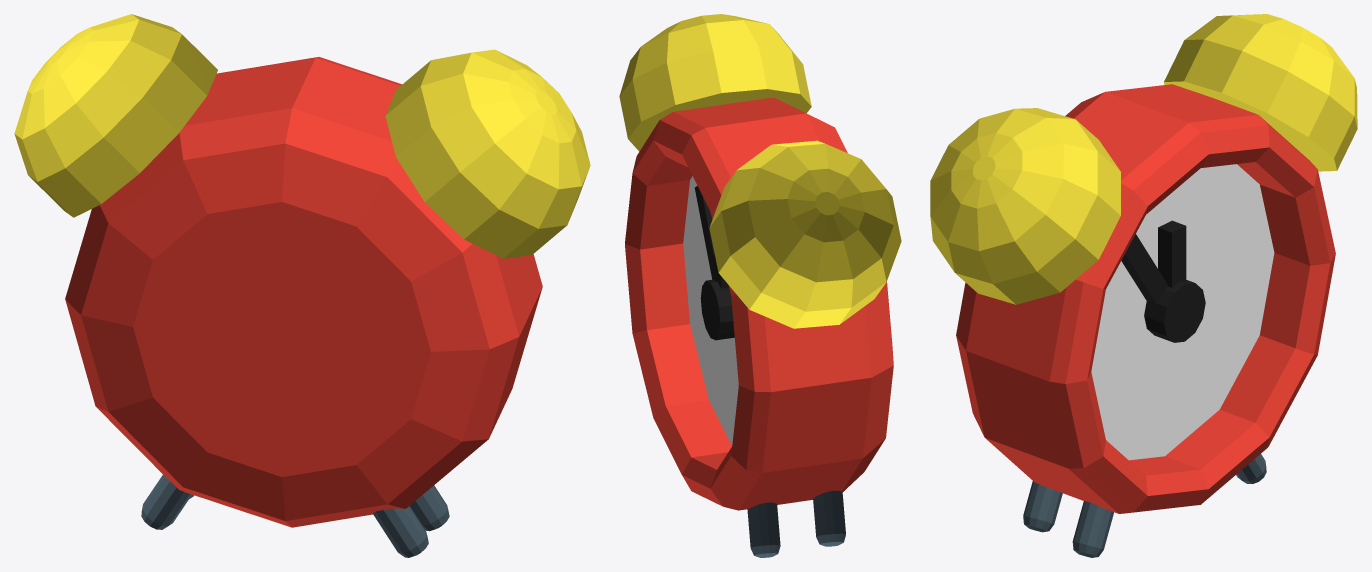
File: group1460745379_lev3.005.glb
The picture shows the model from 3 angles, left to right: view 1: azimuth 30°, elevation 25°; view 2: azimuth 150°, elevation 25°; view 3: azimuth 270°, elevation 25°; orthographic projection. The views are drawn at different scales.
Visible parts, largest first — view 1: group1460745379_lev3.005; view 2: group1460745379_lev3.005; view 3: group1460745379_lev3.005.
Boxes of the visible parts, x1,y1,x2,y2 form: group1460745379_lev3.005: [14, 14, 590, 557]; group1460745379_lev3.005: [619, 14, 901, 557]; group1460745379_lev3.005: [930, 14, 1357, 557].
Bounding box in the file's own units: 1.81 × 2.02 × 1.75.
